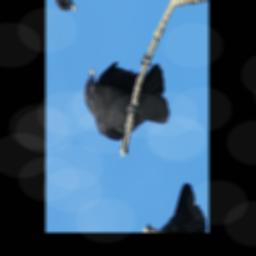Crow: (78, 15, 176, 179)
